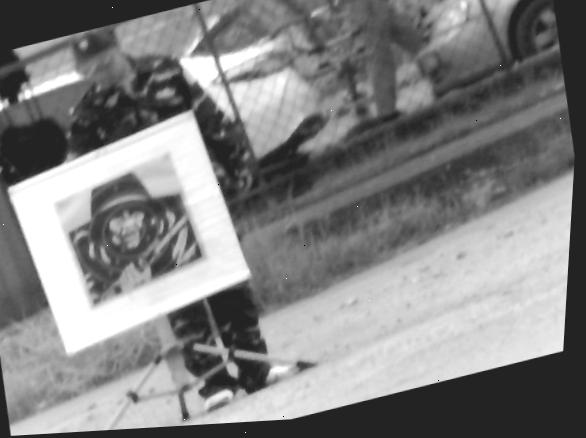bia: (44, 152, 214, 310)
chan: (101, 310, 314, 438)
